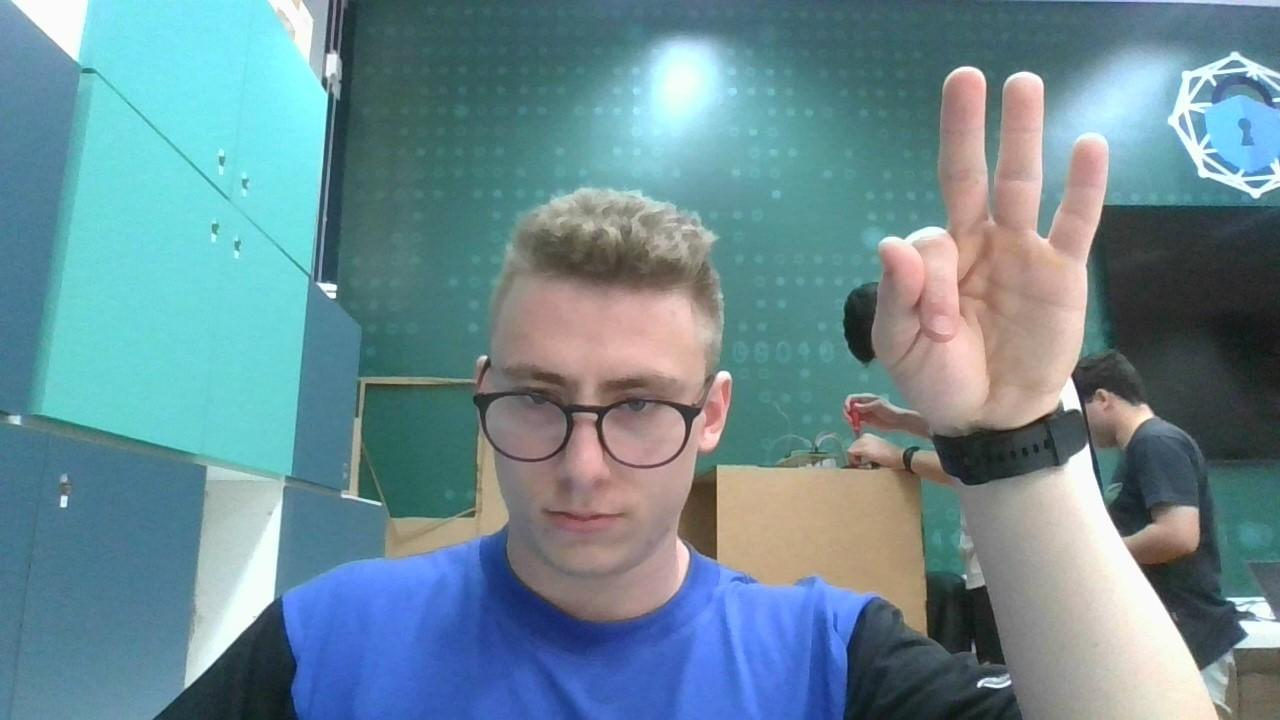F: (870, 62, 1112, 424)
